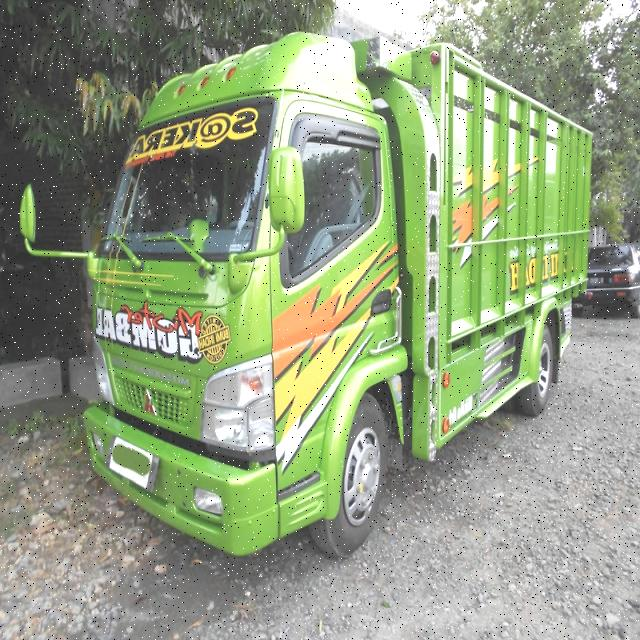truck: (21, 26, 594, 564)
